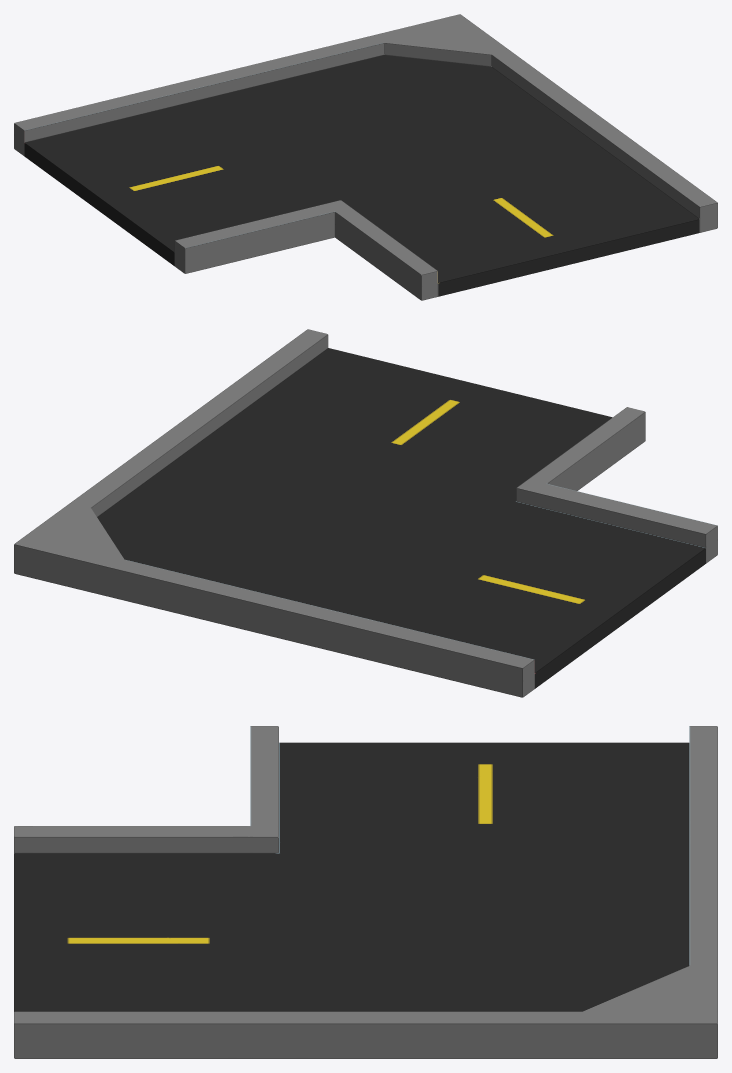
Rendered from road_curved.obj.
The picture shows the model from 3 angles, top to bottom: view 1: azimuth 30°, elevation 25°; view 2: azimuth 150°, elevation 25°; view 3: azimuth 270°, elevation 25°; orthographic projection. The views are drawn at different scales.
Parts seen in each view (by area): view 1: cuboid; view 2: cuboid; view 3: cuboid.
Part boxes in pixels (x1=…): cuboid: x1=14, y1=14, x2=717, y2=300; cuboid: x1=14, y1=329, x2=717, y2=697; cuboid: x1=14, y1=726, x2=717, y2=1058.
Size of the model in its own units: 16.94 by 0.9375 by 16.94.
Materials: 1 (1 with a texture image).
